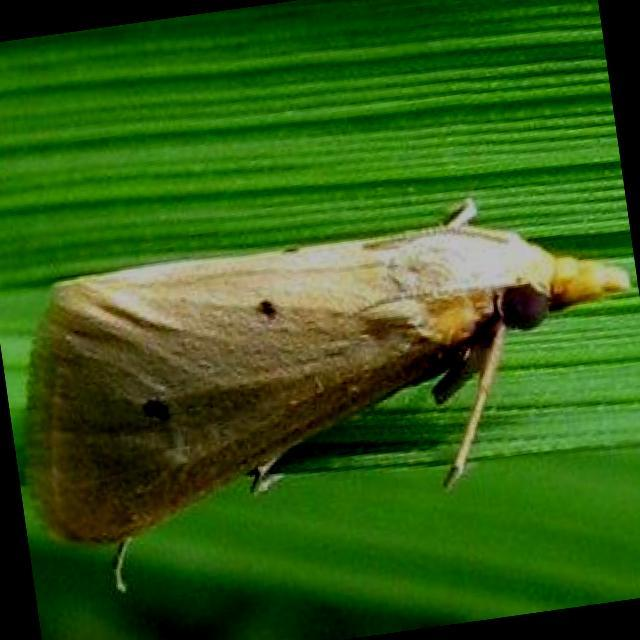stem borer: (27, 198, 630, 591)
